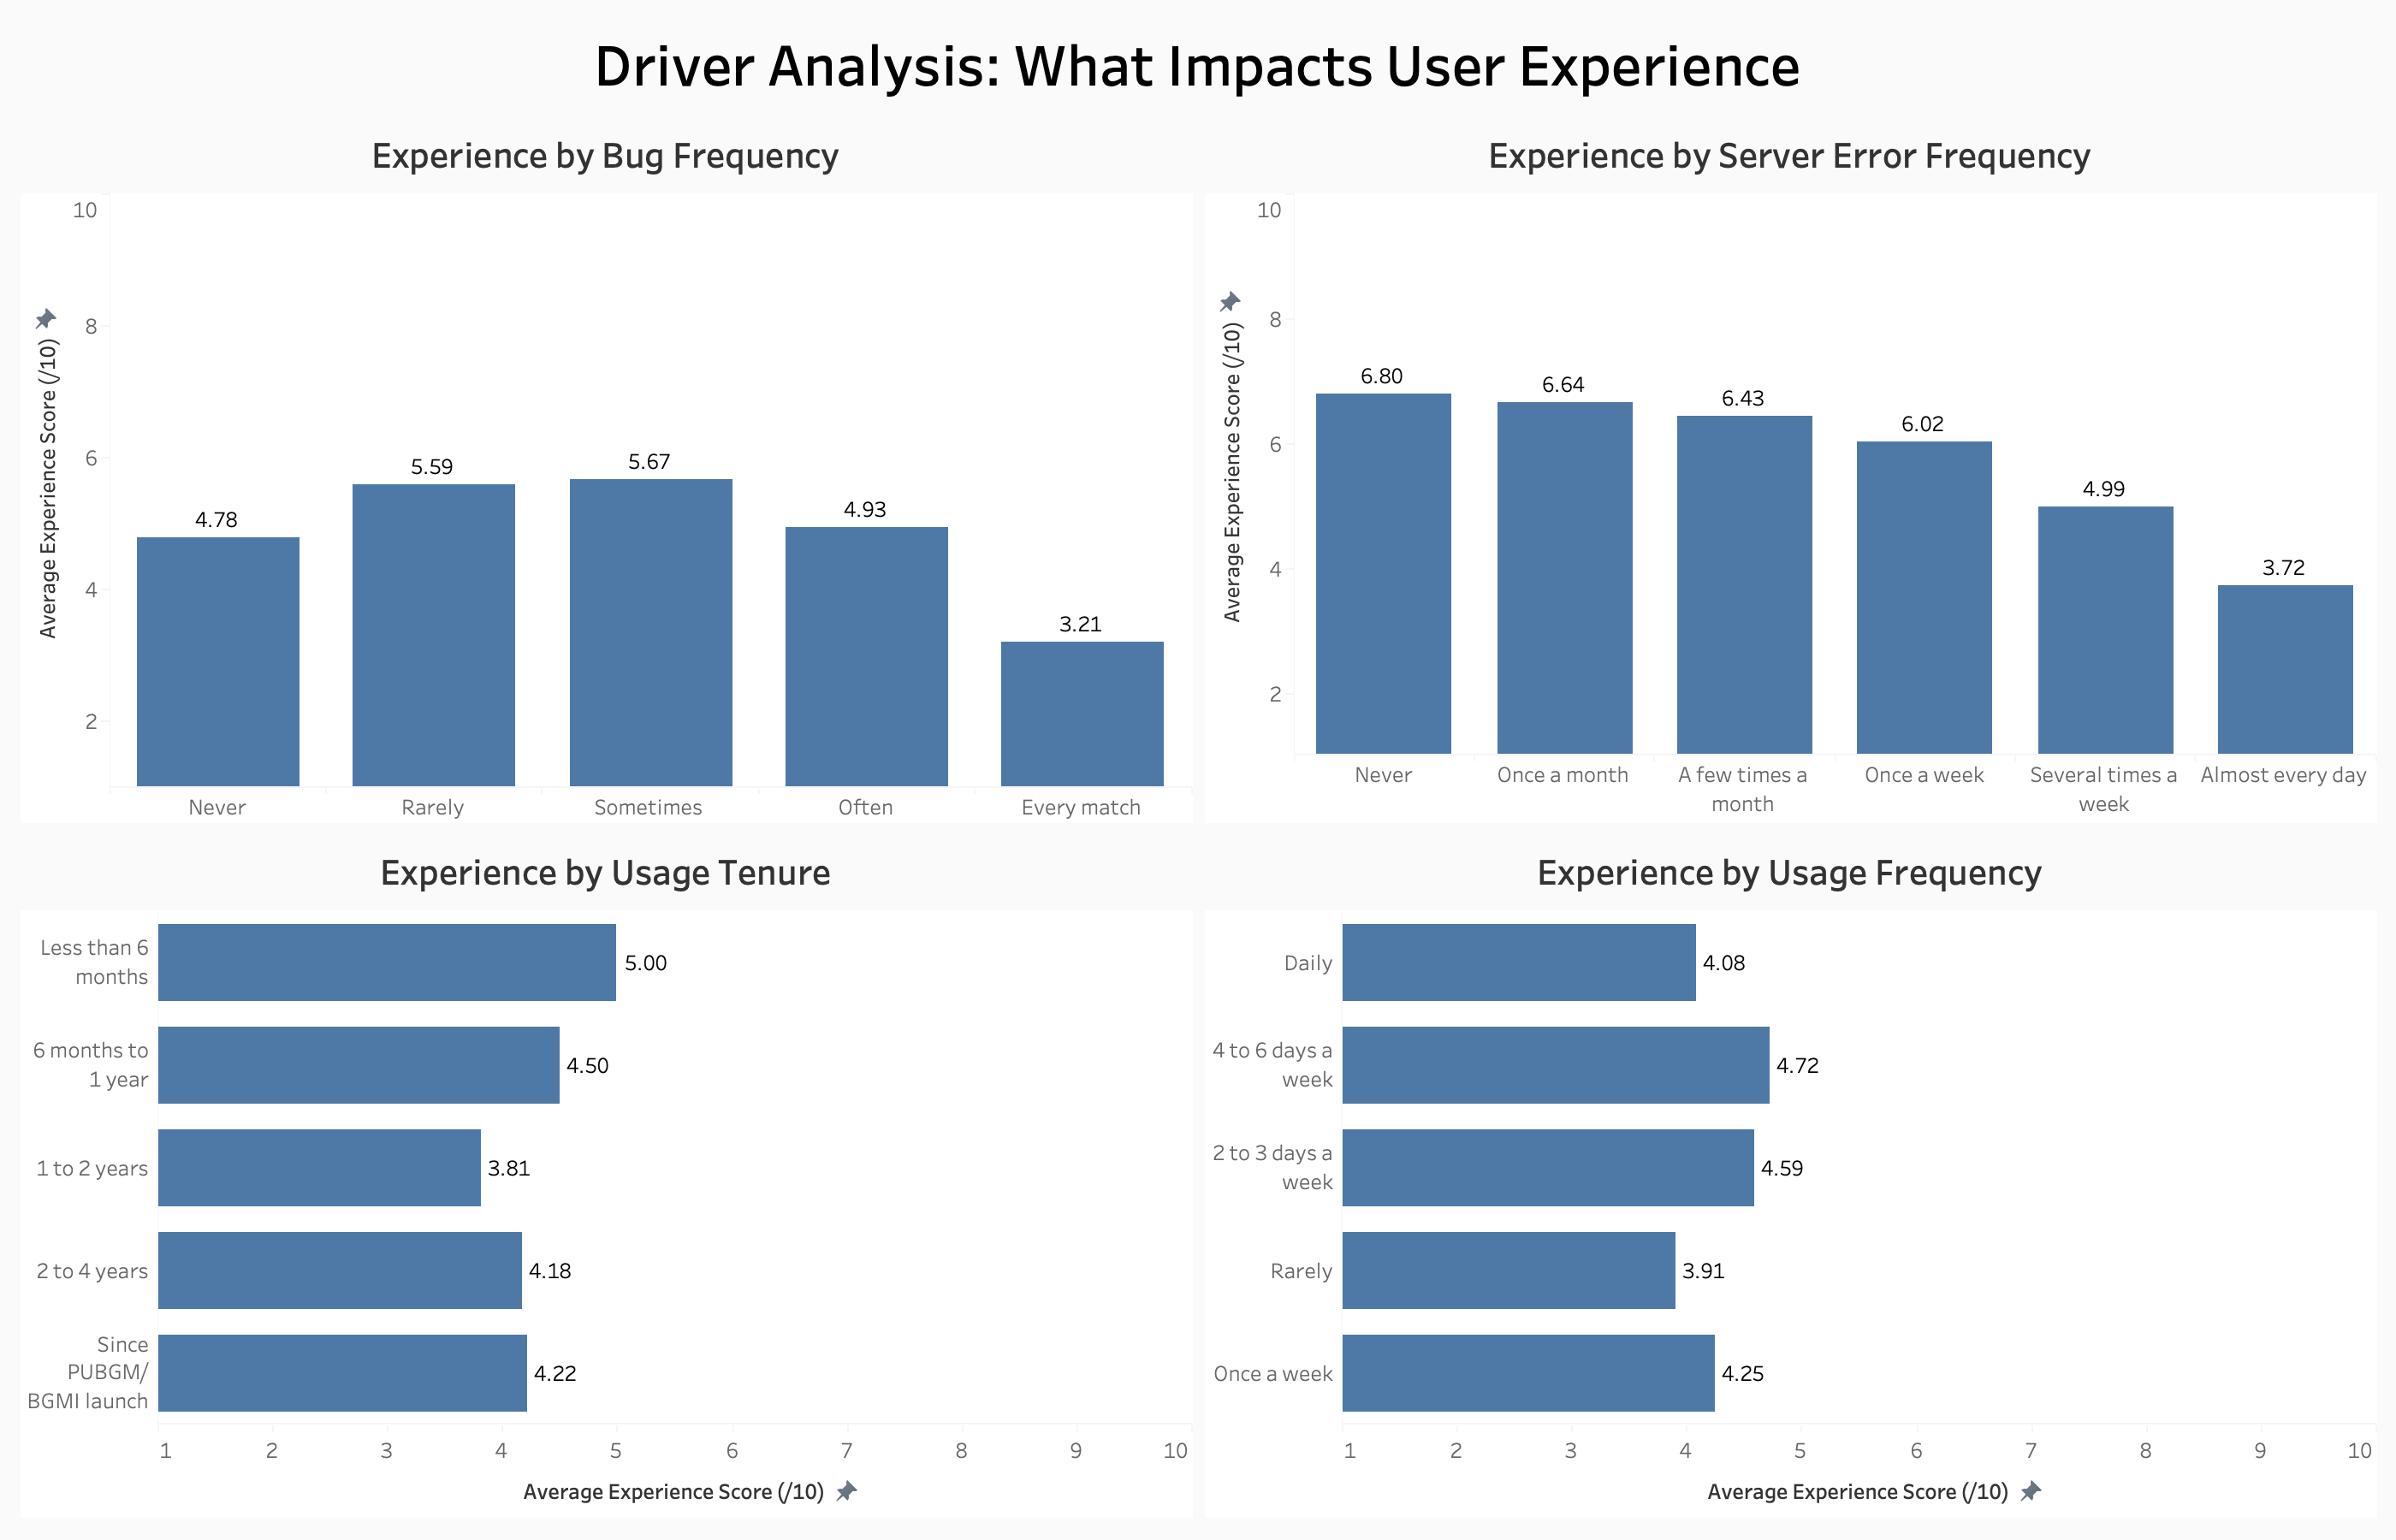

Layout of this report page (visuals, bound fields, positions):
{"tool":"tableau","page":{"name":"Driver Analysis","canvas":[1400,900],"ordinal":0},"visuals":[{"type":"text","box":[8,8,1384,58]},{"type":"worksheet","title":"Experience by Bug Frequency","mark":"Automatic","rows":["overall_experience_score"],"cols":["bug_frequency"],"box":[8,66,692,418.5]},{"type":"worksheet","title":"Experience by Server Error Frequency","mark":"Automatic","rows":["overall_experience_score"],"cols":["server_error_frequency"],"box":[700,66,692,418.5]},{"type":"worksheet","title":"Experience by Years Playing","mark":"Automatic","rows":["years_playing"],"cols":["overall_experience_score"],"box":[8,484.5,692,407.5]},{"type":"worksheet","title":"Experience by Play Frequency","mark":"Automatic","rows":["play_frequency"],"cols":["overall_experience_score"],"box":[700,484.5,692,407.5]}]}

Visuals, with their boxes in screenshot pixels (x1, y1, x2, y2), scaled from the page's 1400x900 canvas onto the 2396x1540 screenshot:
text: select_region(14, 14, 2382, 113)
"Experience by Bug Frequency" worksheet: select_region(14, 113, 1198, 829)
"Experience by Server Error Frequency" worksheet: select_region(1198, 113, 2382, 829)
"Experience by Years Playing" worksheet: select_region(14, 829, 1198, 1526)
"Experience by Play Frequency" worksheet: select_region(1198, 829, 2382, 1526)
